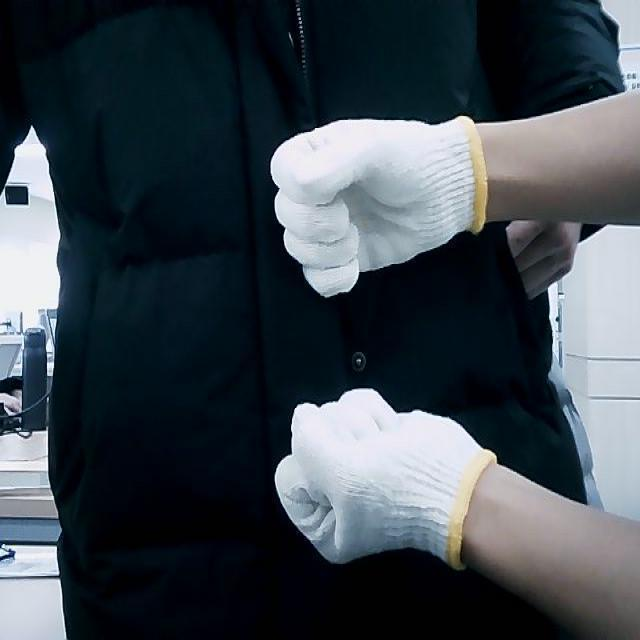gloves: (268, 112, 489, 298), (274, 388, 498, 564)
